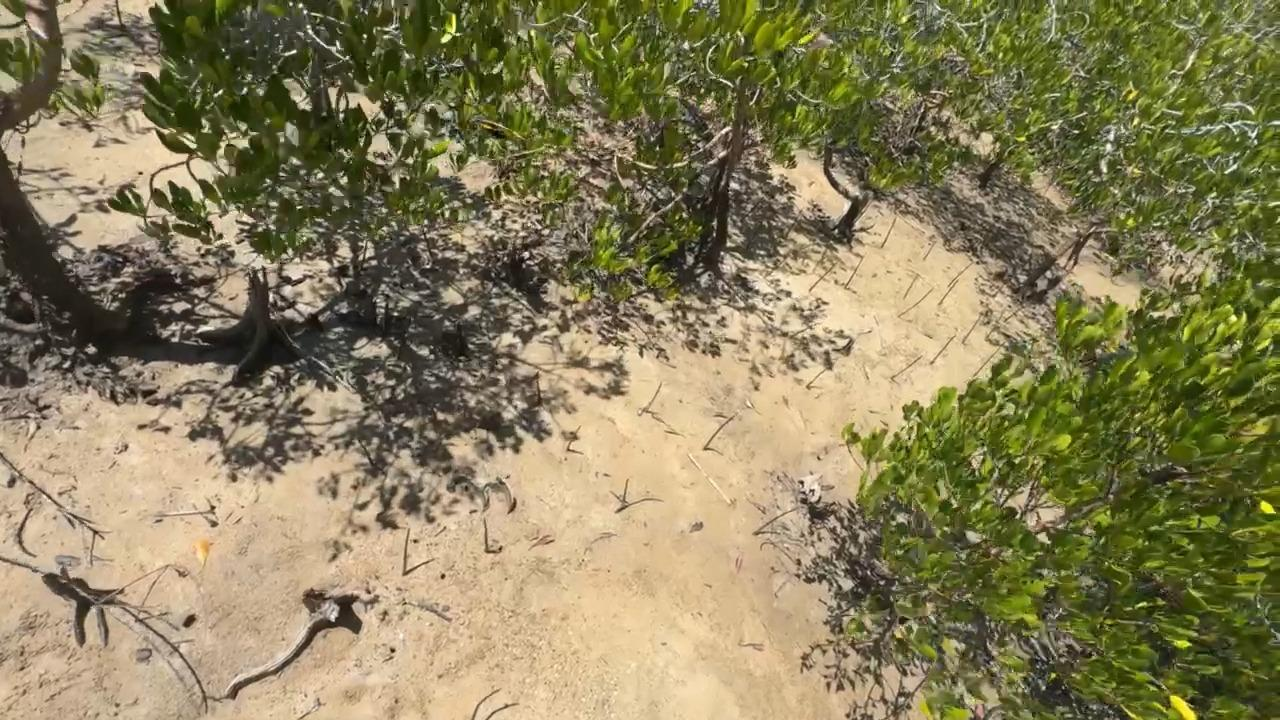Tree: (752, 506, 801, 535), (702, 411, 738, 450), (973, 342, 1006, 378), (899, 286, 934, 318), (471, 688, 502, 720), (808, 259, 838, 292), (889, 355, 925, 380), (929, 335, 957, 364), (947, 261, 974, 288), (843, 256, 864, 289), (879, 216, 898, 247), (938, 278, 959, 306), (644, 381, 662, 411), (962, 314, 980, 344), (784, 209, 801, 240), (806, 367, 829, 388), (401, 527, 411, 575), (1003, 305, 1026, 323), (903, 274, 919, 299), (566, 424, 581, 450), (921, 239, 938, 261), (993, 276, 1007, 296), (621, 478, 630, 502), (483, 517, 489, 551), (536, 372, 541, 403), (999, 306, 1006, 318)
